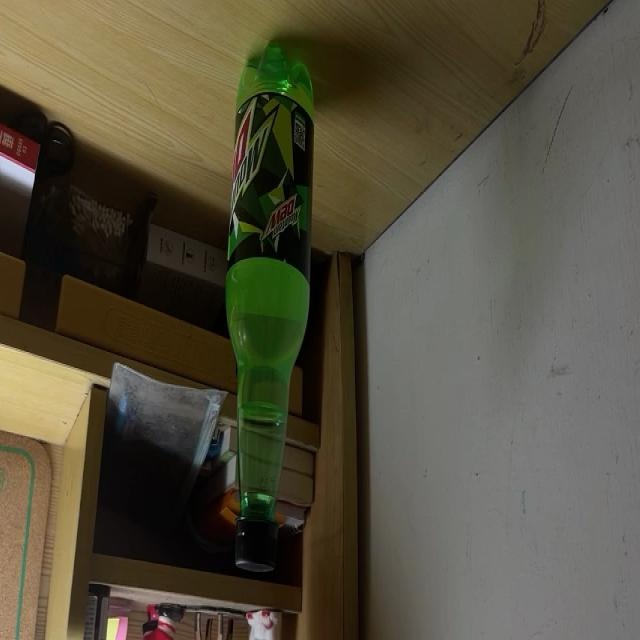Mountain-Dew: (227, 42, 313, 571)
